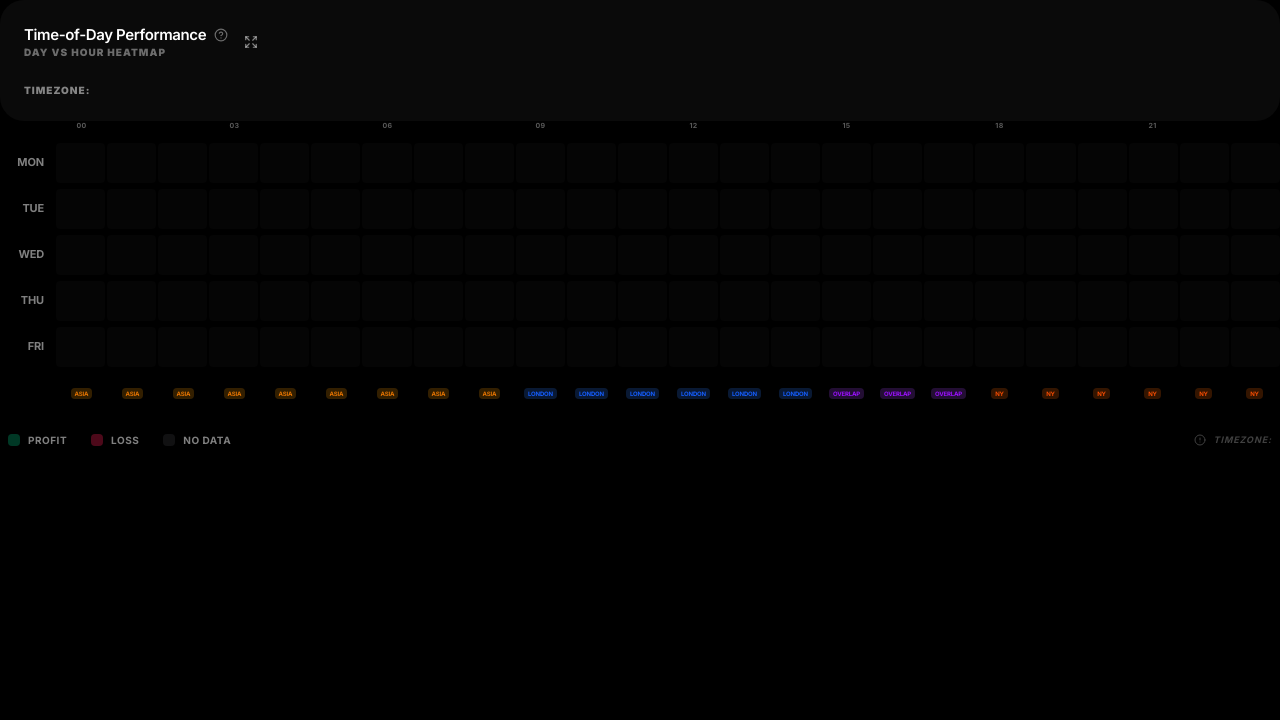
Test case: TimeAnalysisMatrixWidget fullscreen › opens a fullscreen heatmap and restores the inline view on close
expect the heading "Time-of-Day Performance" is shown: met, box [24,24,206,45]
What coordinates should you click on to do the following:
click the button named "Fullscreen preview"
I would click on:
 (251, 42)
Its box is [240,30,262,52].
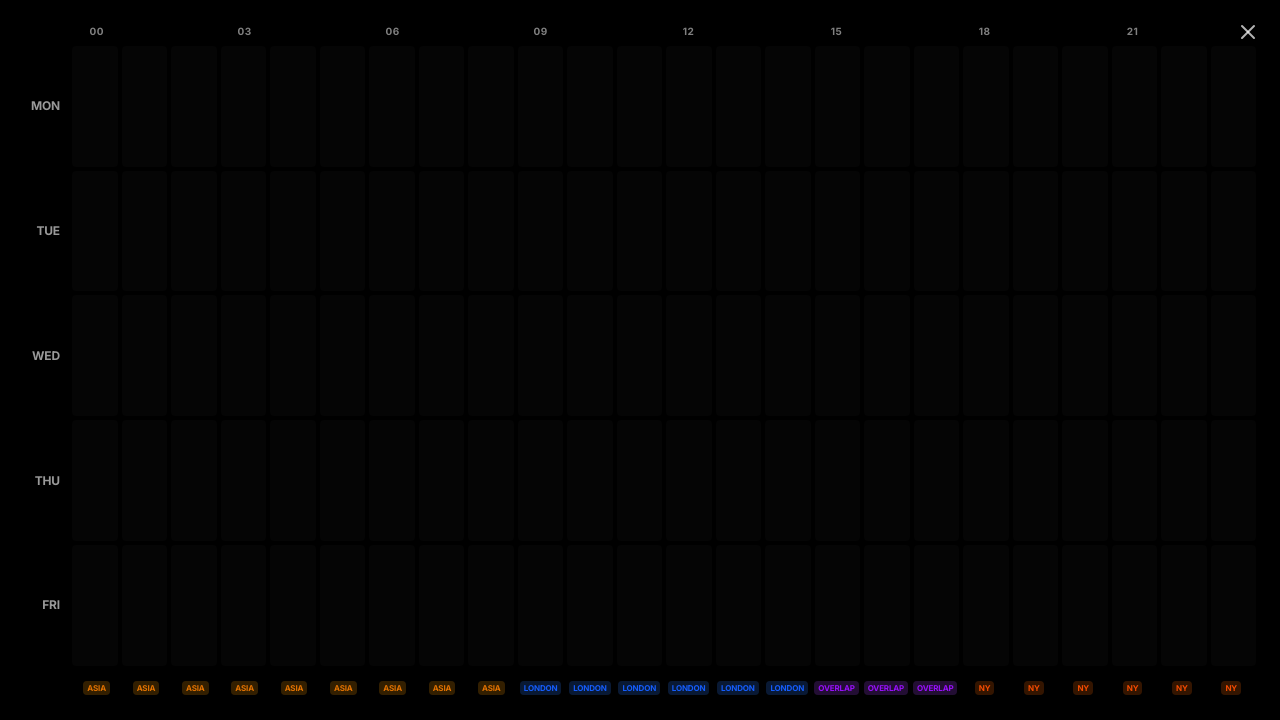
expect the dialog is shown: met
expect the text "Mon" is shown: met, box [31,98,60,113]
expect the text "Tue" is shown: met, box [36,223,60,238]
What coordinates should you click on to do the following:
click the button named "Close fullscreen preview"
I would click on:
 (1248, 32)
Its box is [1232,16,1264,48].
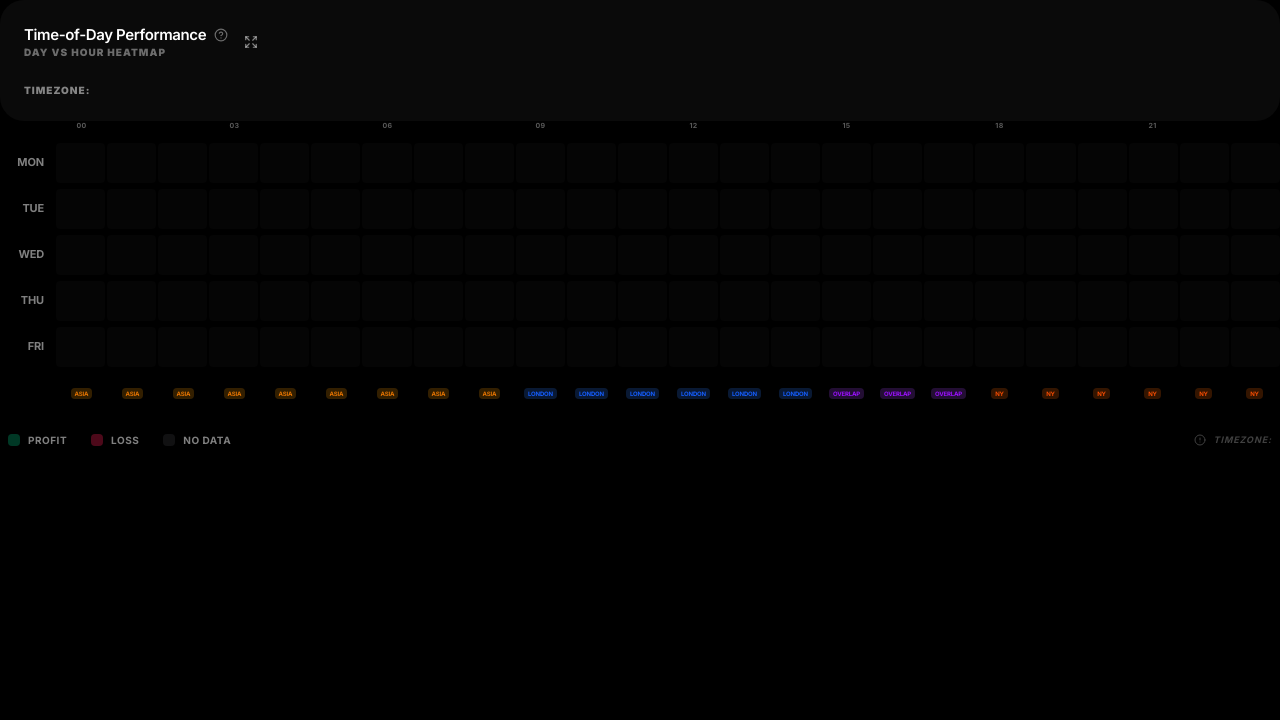
expect the heading "Time-of-Day Performance" is shown: met, box [24,24,206,45]
expect the dialog is gone: met
